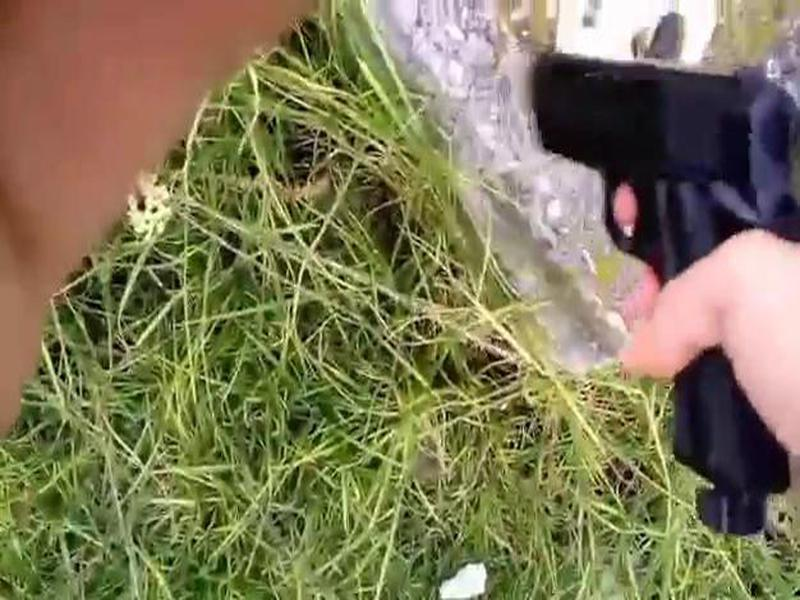Pistola: (520, 33, 800, 410)
